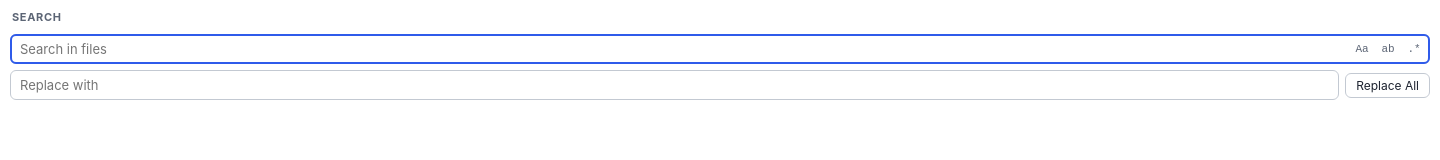
Scenario: workspace search › shows regex errors inline
The width and height of the screenshot is (1440, 160).
Click the button named "Use regular expression": [1414, 49] box [1402,38,1426,60]
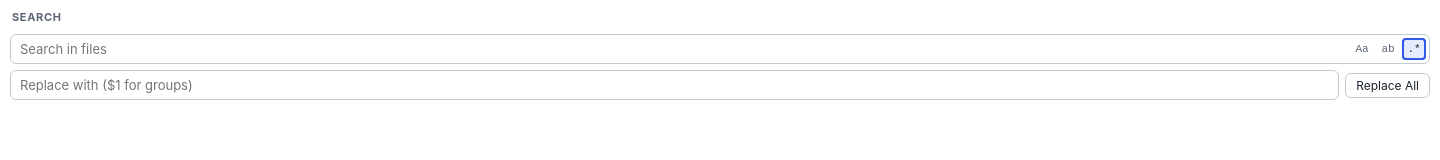
In the field labelled "Search in files": [720, 49] box [10,34,1430,64], type "("
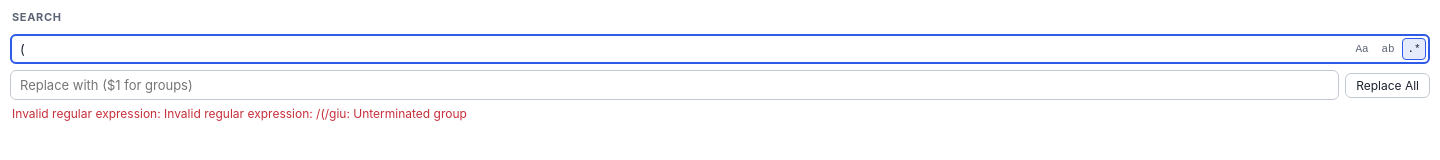
Check: the message shows "Invalid regular expression", box [12,106,467,121]
